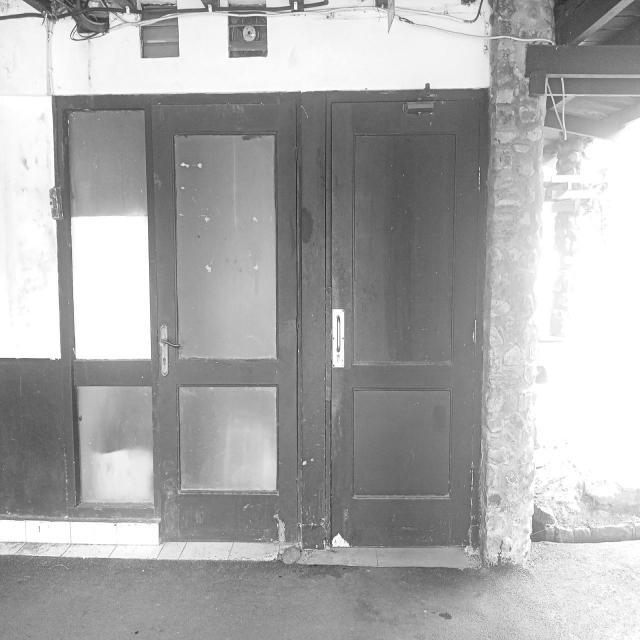door: (326, 92, 485, 552), (148, 96, 306, 546)
